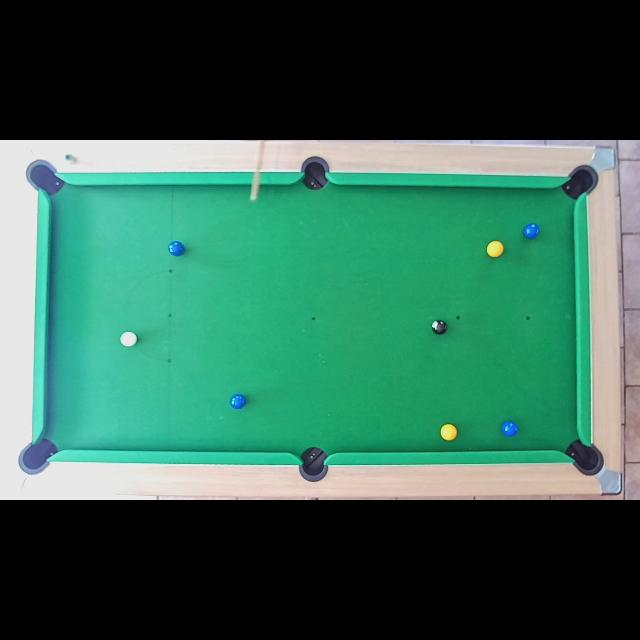Ball: (487, 240, 505, 258), (440, 423, 458, 441), (120, 331, 138, 347), (522, 222, 540, 238), (501, 421, 519, 437), (168, 241, 186, 257), (230, 394, 247, 410), (432, 320, 448, 334)
